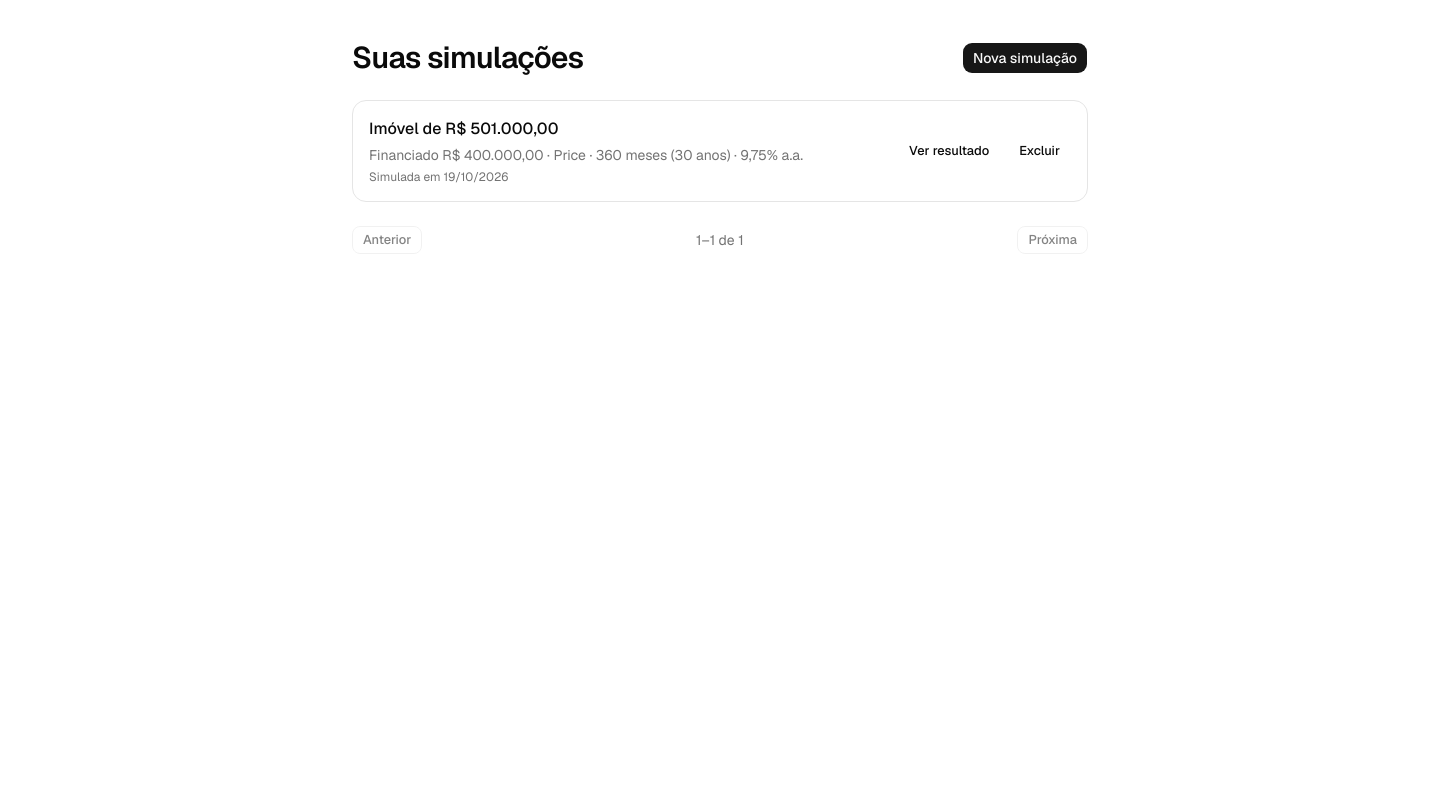
Scenario: SimulationHistory › se a exclusão falha, o erro aparece no diálogo, que continua aberto
The image size is (1440, 810).
Click the button with aria-label "Excluir:" at (1040, 151), box [1008,137,1071,165]
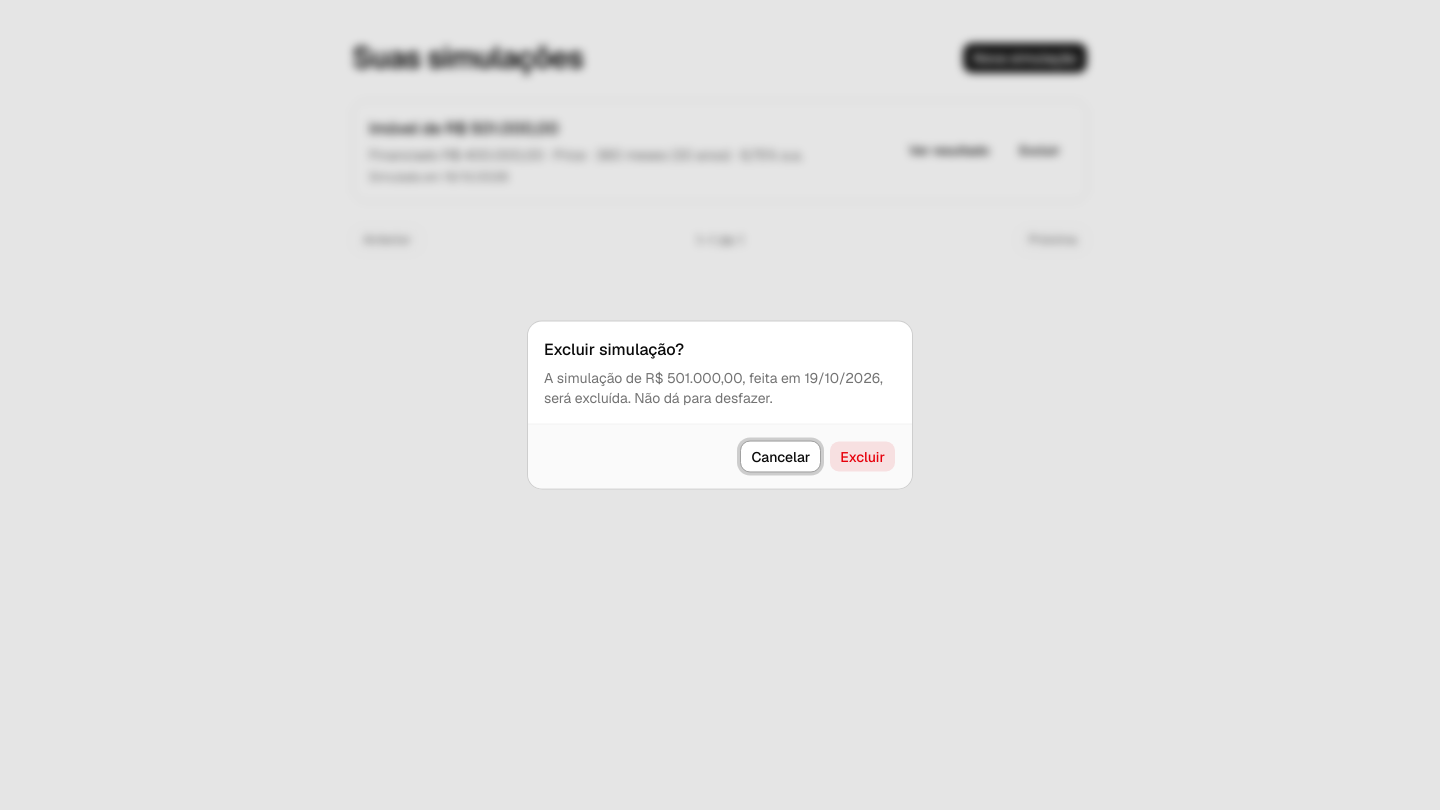
Click the button "Excluir" at (863, 456), box [829,440,896,472]
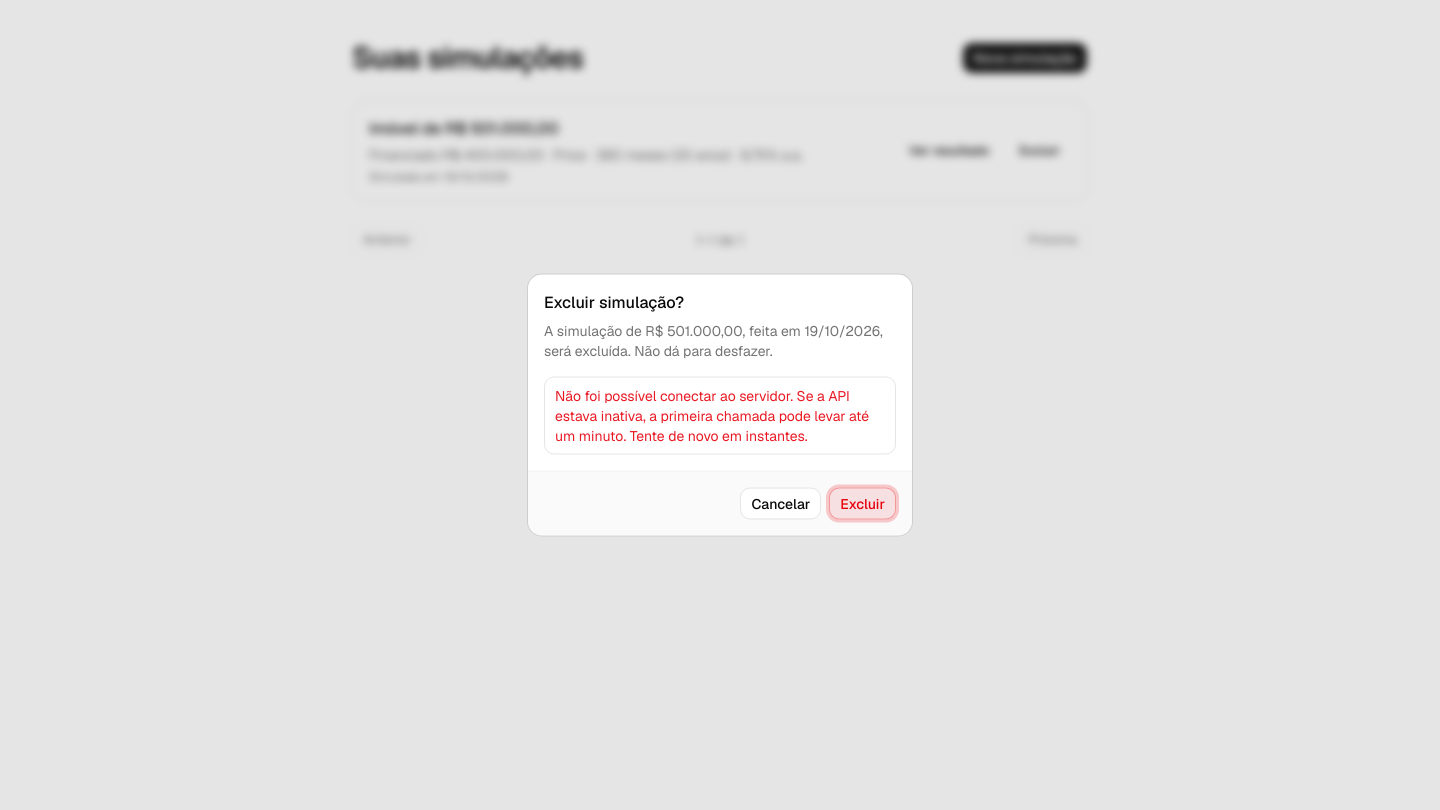
Expected: the dialog is shown, [528,274,912,536]
Expected: the text "Não foi possível conectar" is shown, [555,386,869,444]
